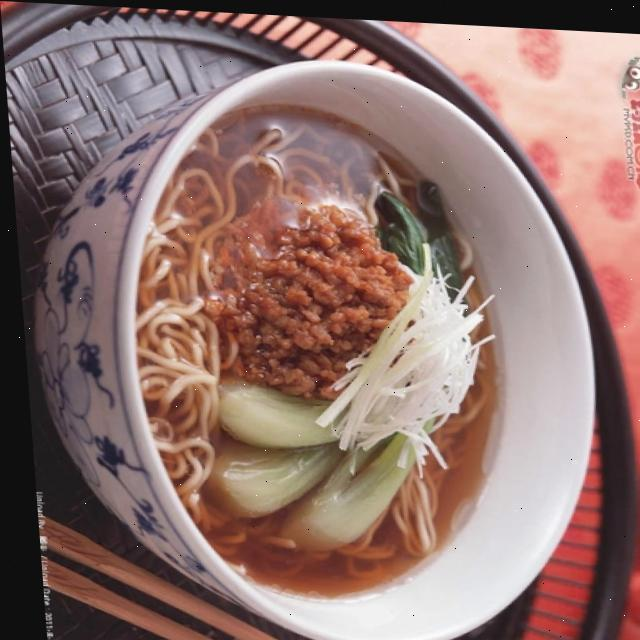面条主食: (31, 25, 640, 640)
